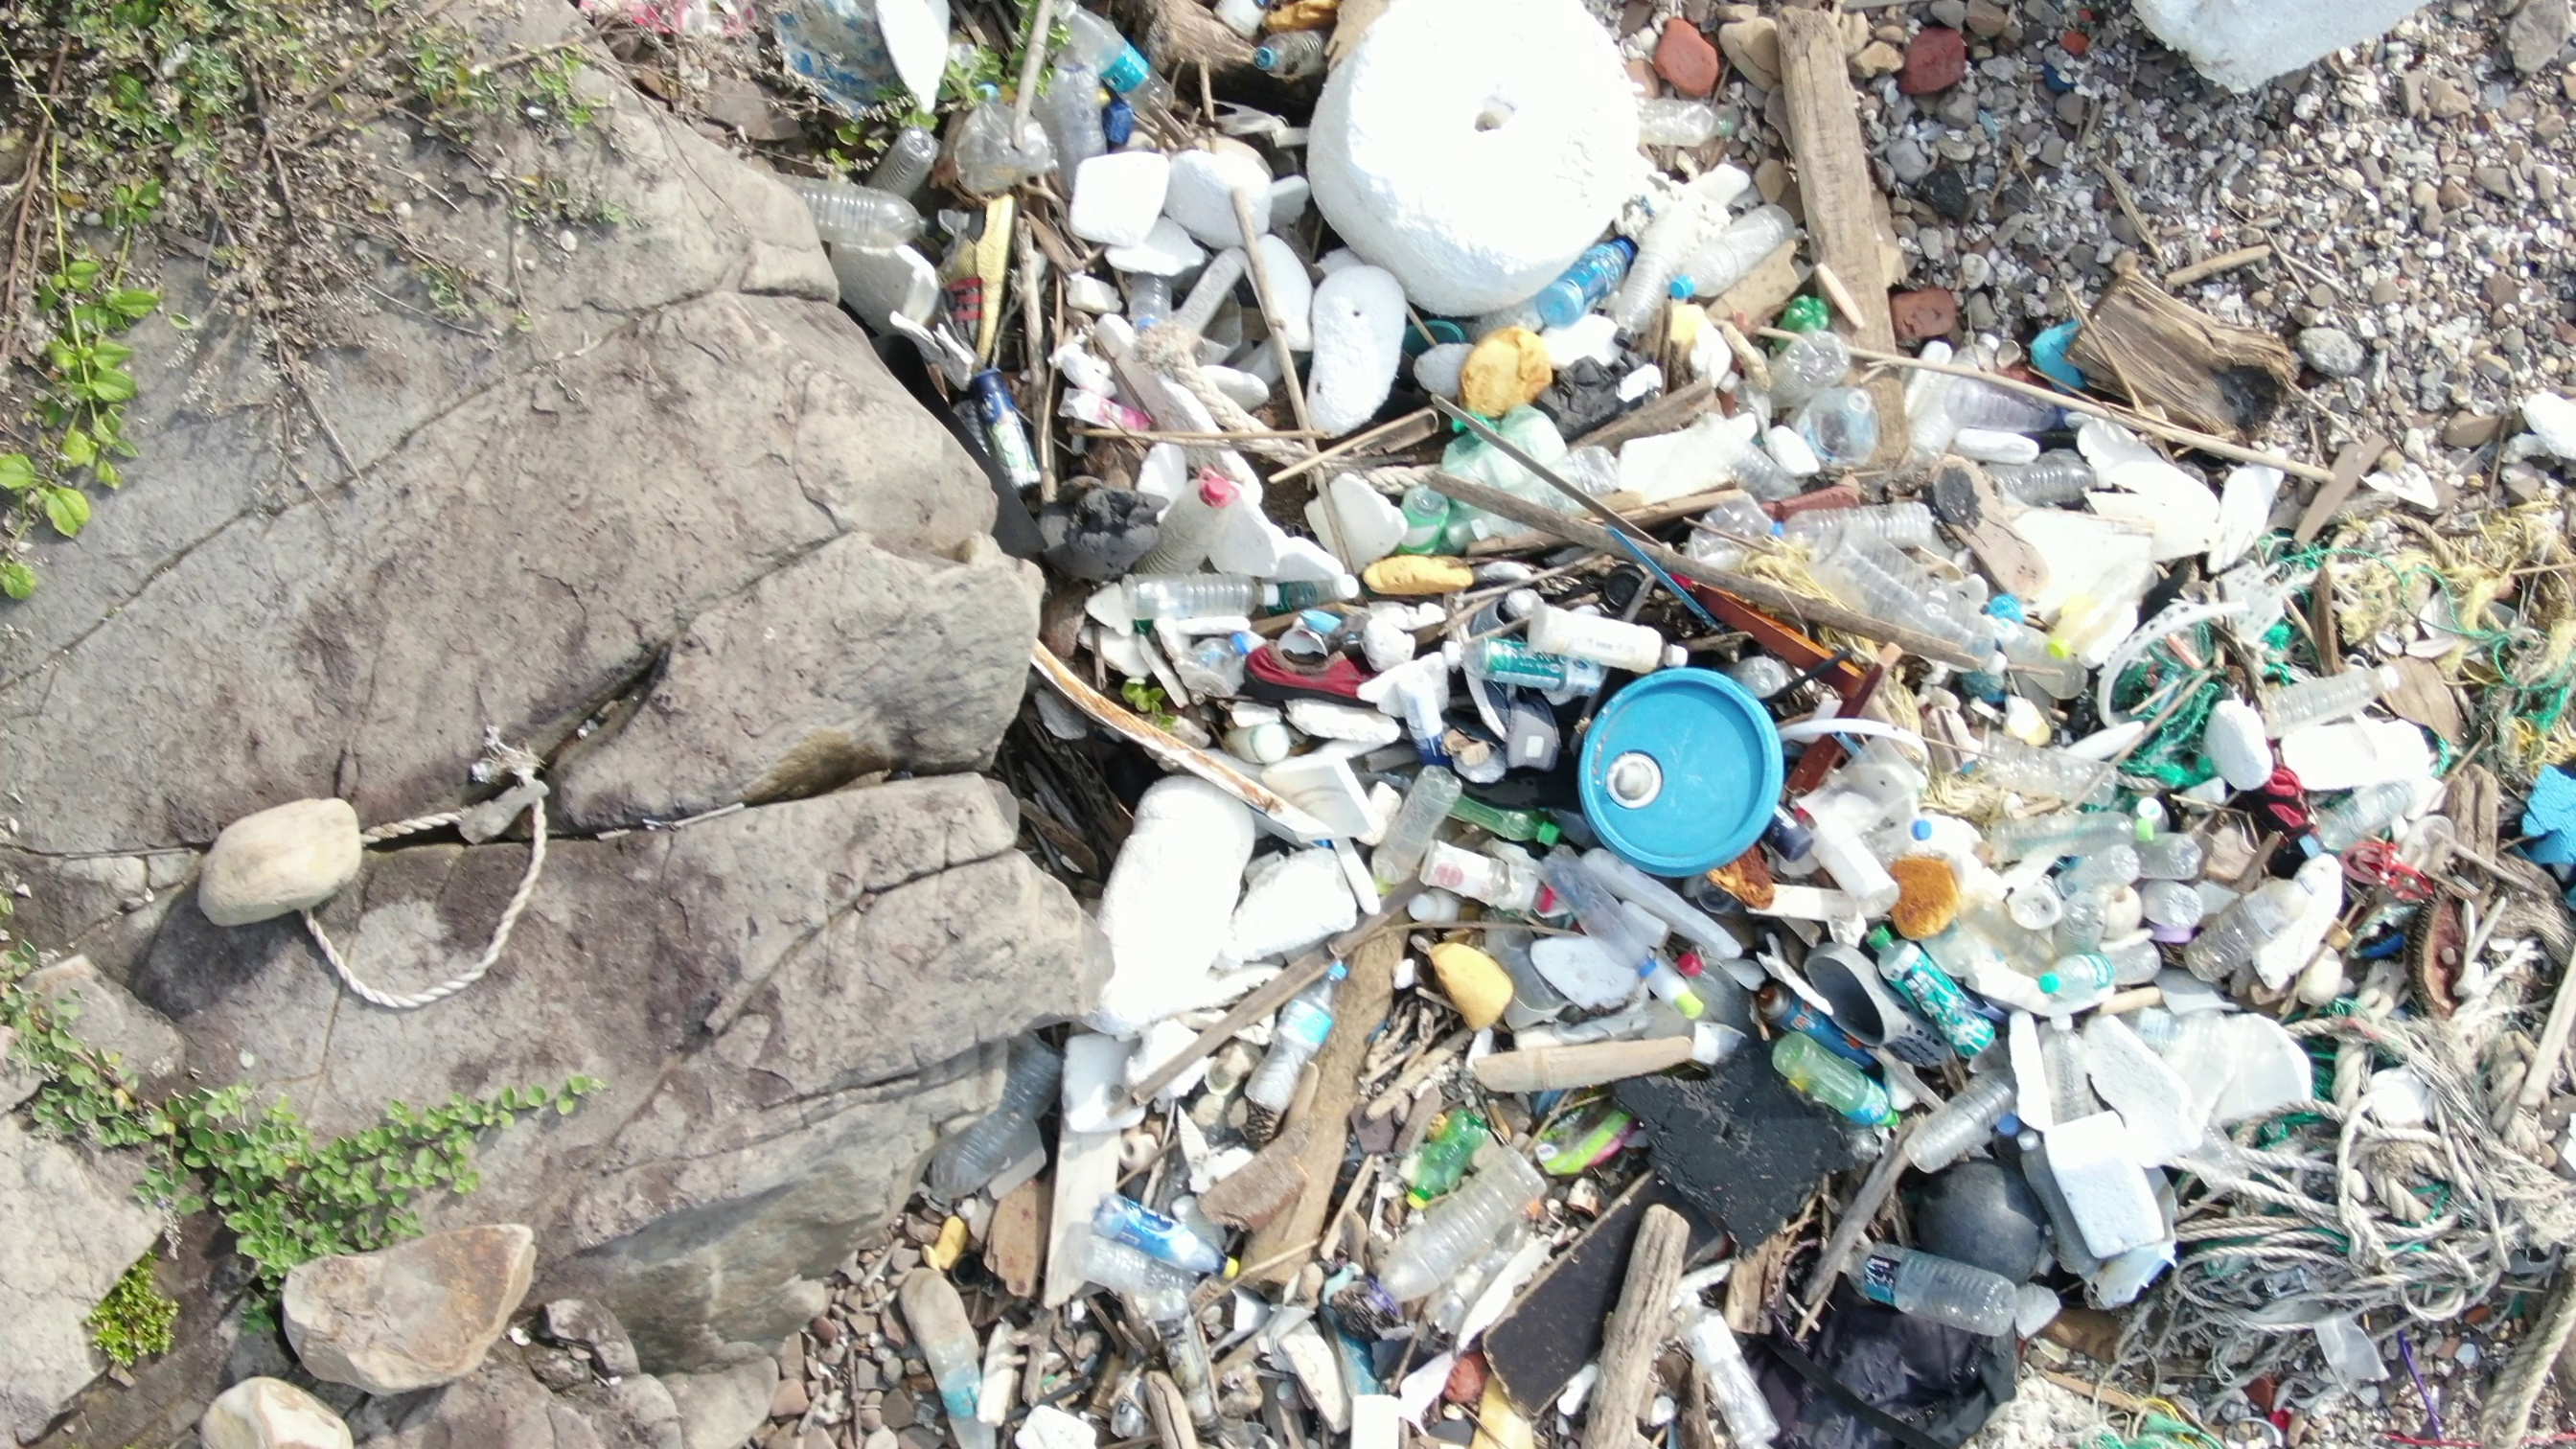bottle: (1789, 515, 2013, 681), (1371, 1138, 1560, 1315), (915, 1023, 1081, 1219), (1769, 290, 1897, 474), (1849, 918, 2005, 1058), (1759, 1007, 1904, 1138), (1833, 1244, 2022, 1343), (2187, 867, 2350, 982), (1518, 598, 1706, 678), (1134, 460, 1253, 586), (1090, 1191, 1251, 1283), (1672, 195, 1803, 301), (1054, 9, 1185, 113), (1453, 633, 1614, 701), (2263, 660, 2408, 732), (780, 186, 931, 251), (1541, 234, 1644, 322), (2031, 945, 2173, 1007), (1398, 1106, 1483, 1207), (1987, 619, 2089, 702), (1109, 577, 1286, 623), (1244, 23, 1345, 78), (872, 120, 939, 200), (1389, 483, 1456, 554)
garbage: (747, 11, 2546, 1449), (193, 731, 566, 1007)
